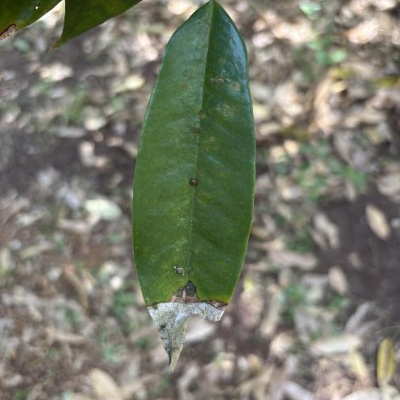Leaf_Blight: (129, 0, 258, 373)
